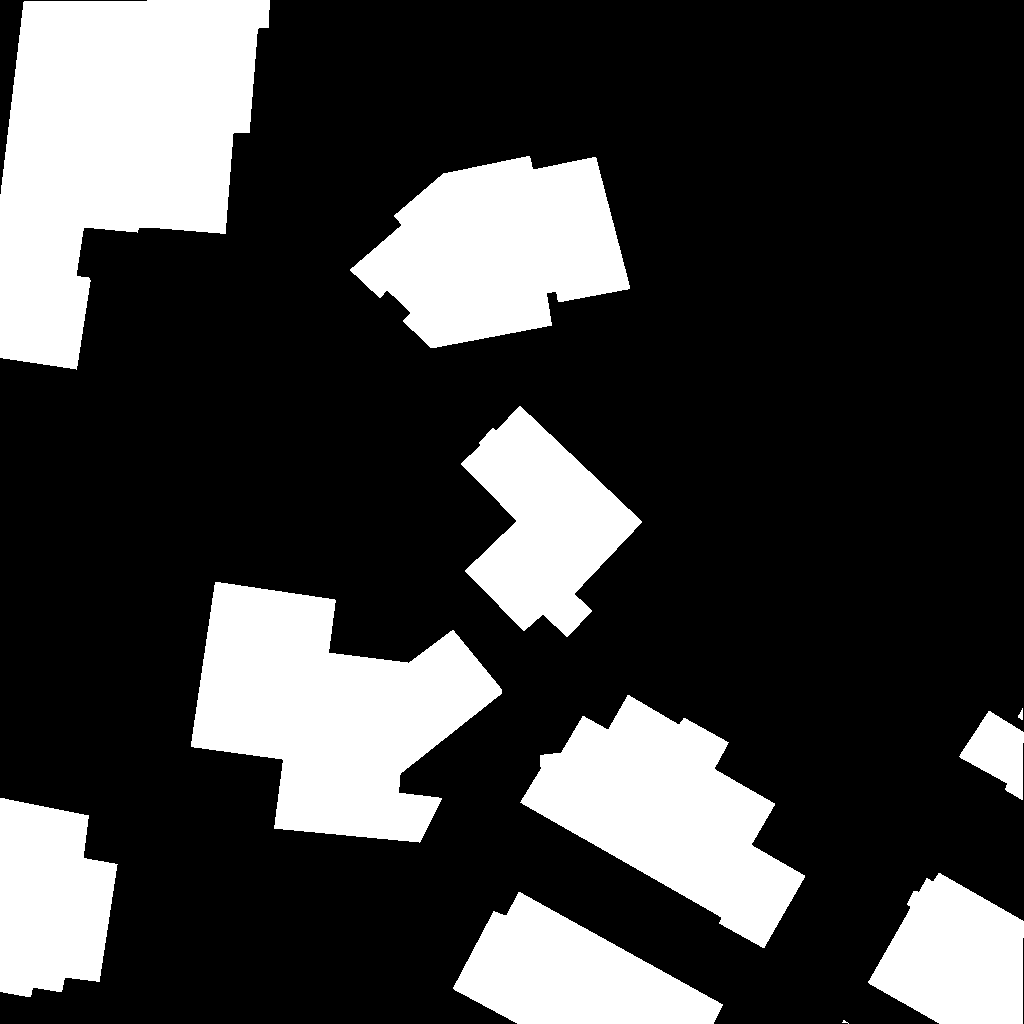building: (0, 0, 271, 370), (191, 582, 504, 843), (520, 695, 806, 949), (350, 156, 631, 349), (461, 406, 643, 638), (453, 892, 724, 1024), (0, 798, 118, 998), (868, 873, 1024, 1024), (959, 711, 1024, 801), (1018, 708, 1024, 721), (842, 1020, 850, 1024)
